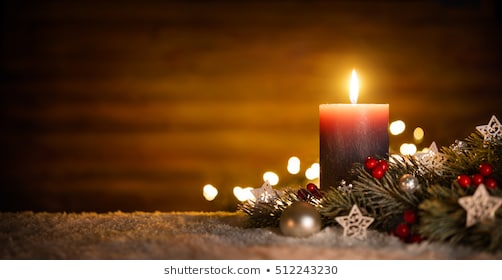Fire: (343, 65, 362, 106)
